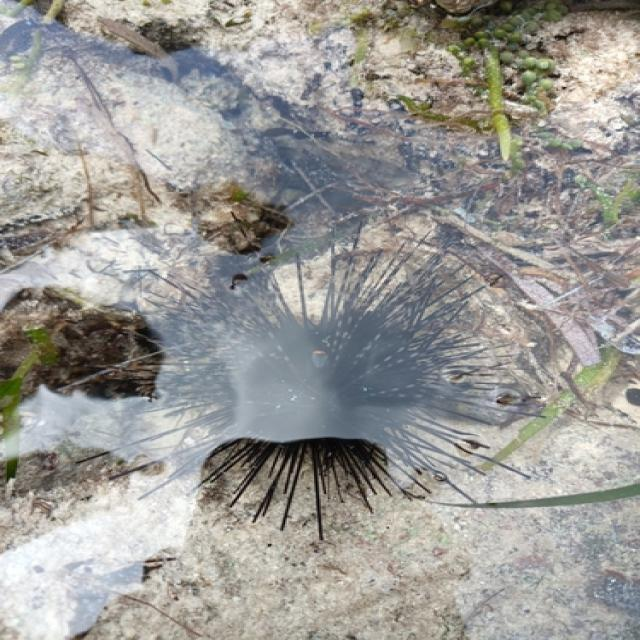Urchin: (72, 219, 551, 539)
